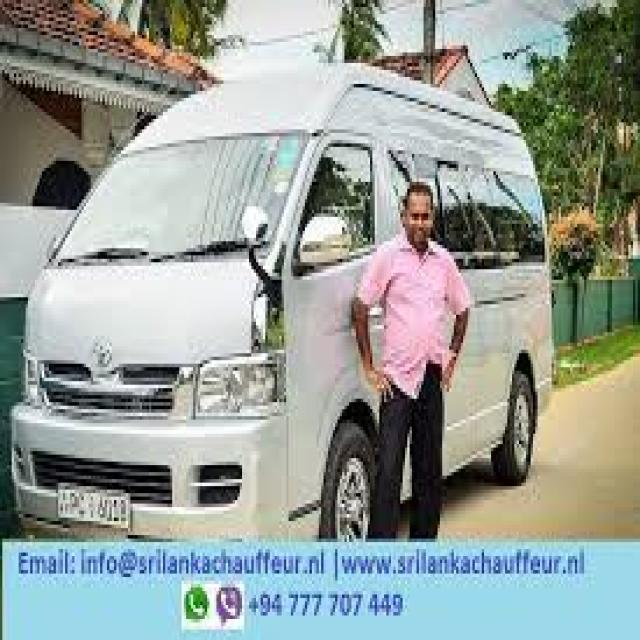person: (351, 182, 468, 539)
van: (12, 66, 549, 539)
